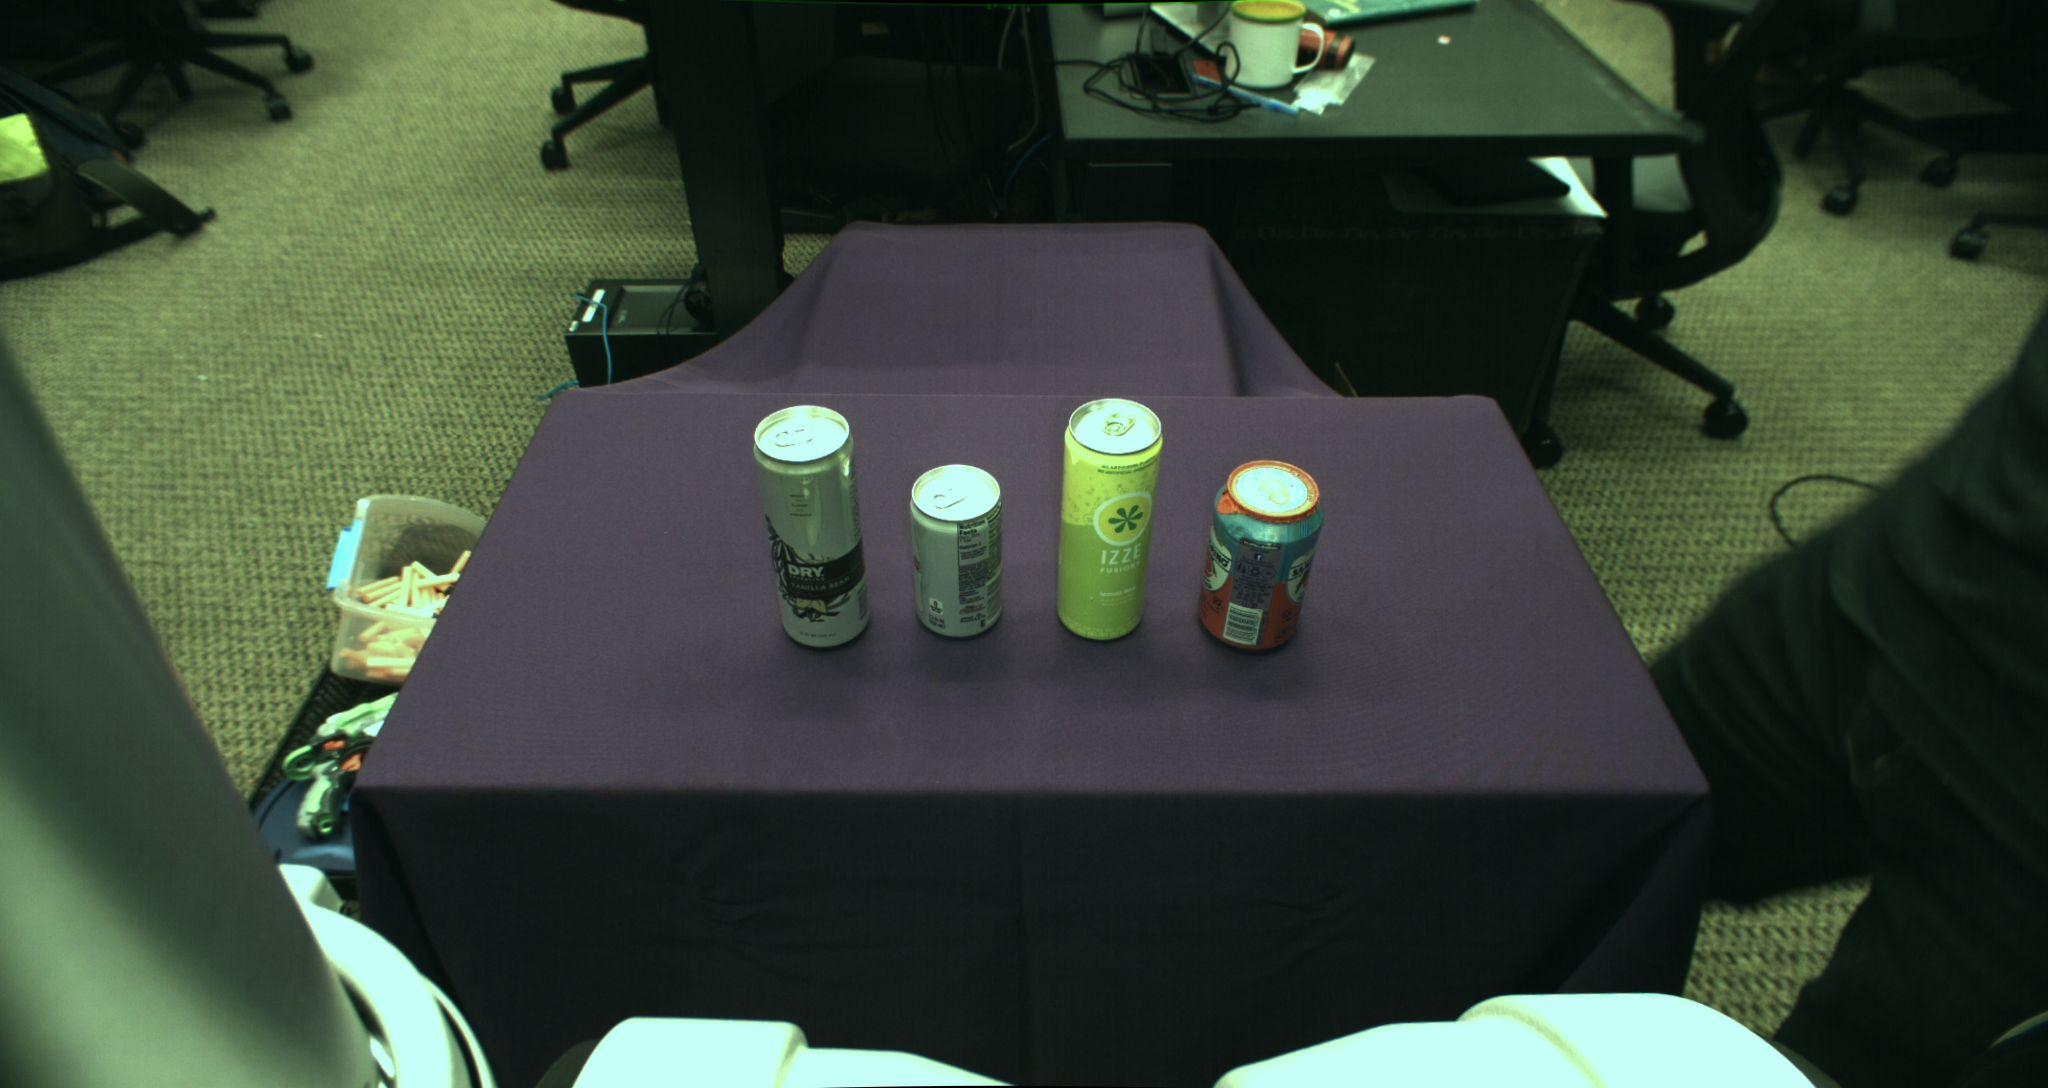can_diet_coke_small: (908, 462, 1005, 640)
can_dry_sparkling_vanilla_bean: (752, 402, 870, 648)
can_izze_fusions_lemon_lime: (1057, 397, 1164, 641)
can_sanpellegrino_blood_orange: (1197, 457, 1323, 652)
